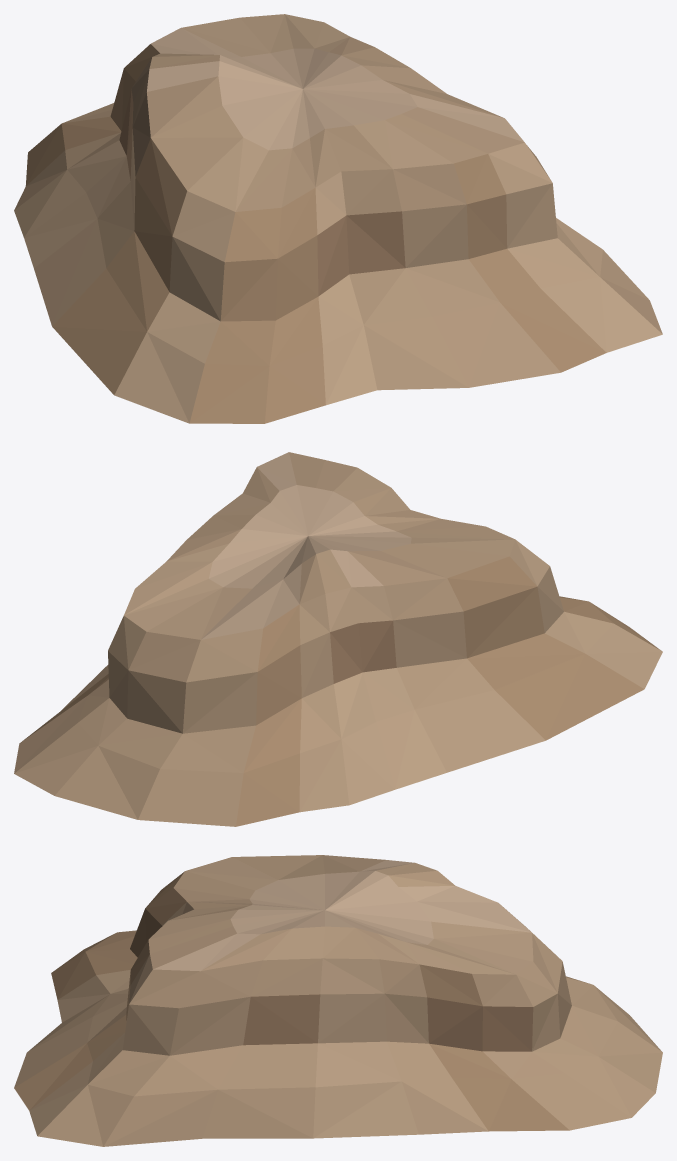
The model's file is WesternButte.fbx.
3 renders of one model, top to bottom at view 1: azimuth 30°, elevation 25°; view 2: azimuth 150°, elevation 25°; view 3: azimuth 270°, elevation 25°, orthographic. The views are drawn at different scales.
Visible parts, largest first — view 1: WesternButte; view 2: WesternButte; view 3: WesternButte.
Part boxes in pixels (<box>): WesternButte: <box>14,14,662,423</box>; WesternButte: <box>14,452,662,826</box>; WesternButte: <box>14,855,662,1146</box>.
Size of the model in its own units: 8000 by 2900 by 10500.
1 material, 1 textured.
